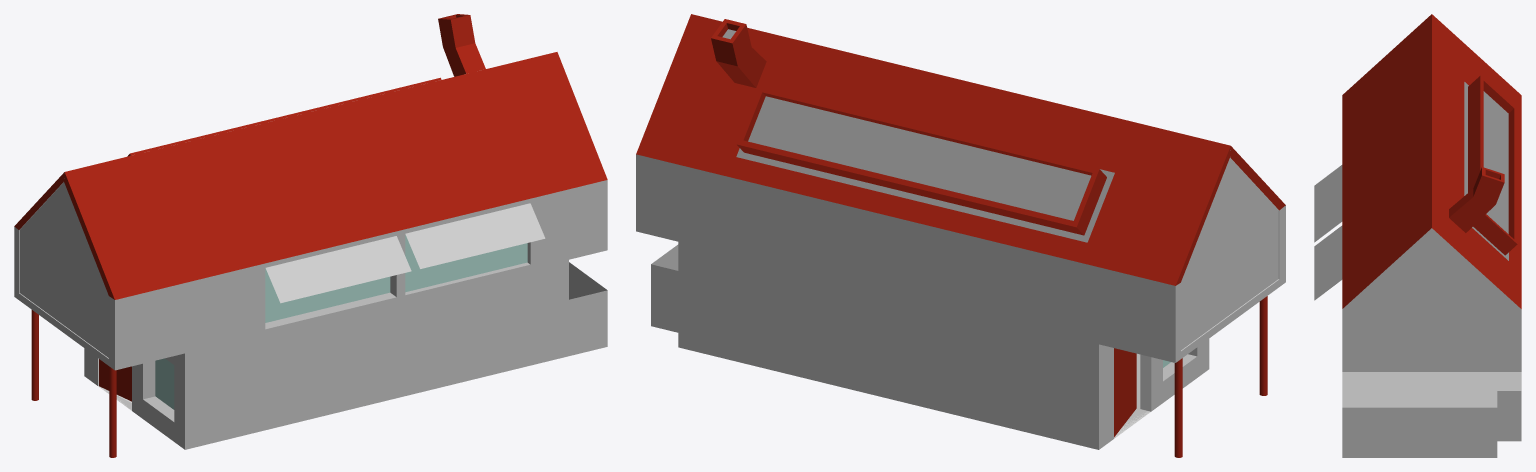
File: CasaVilla.fbx
3 renders of one model, left to right at view 1: azimuth 30°, elevation 25°; view 2: azimuth 150°, elevation 25°; view 3: azimuth 270°, elevation 25°, orthographic. The views are drawn at different scales.
Visible parts, largest first — view 1: Cube; view 2: Cube; view 3: Cube.
Part boxes in pixels (bbox=[...]): Cube: bbox=[14, 14, 607, 457]; Cube: bbox=[636, 14, 1285, 457]; Cube: bbox=[1314, 14, 1521, 457].
Bounding box in the file's own units: 1979 × 1108 × 809.
